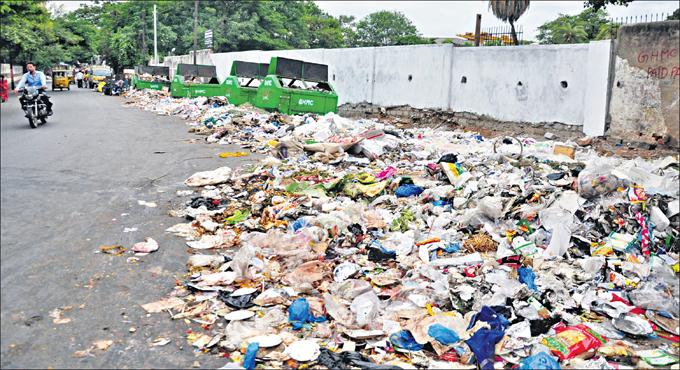garbage: (124, 88, 680, 370)
